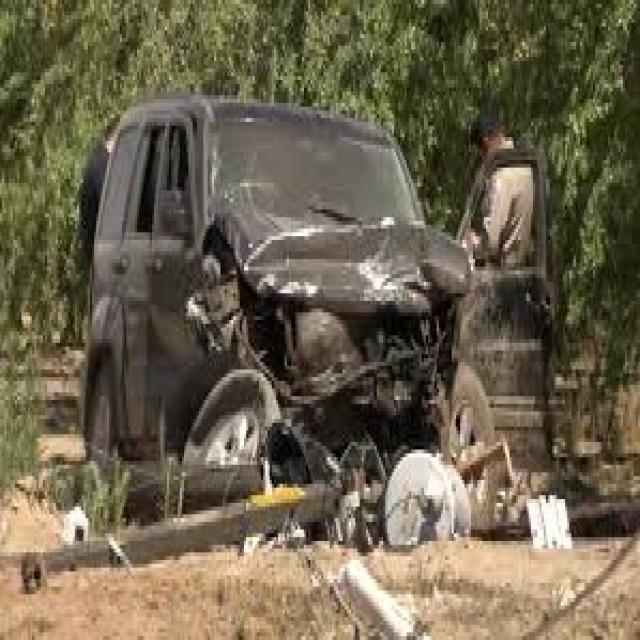accident: (82, 102, 502, 520)
